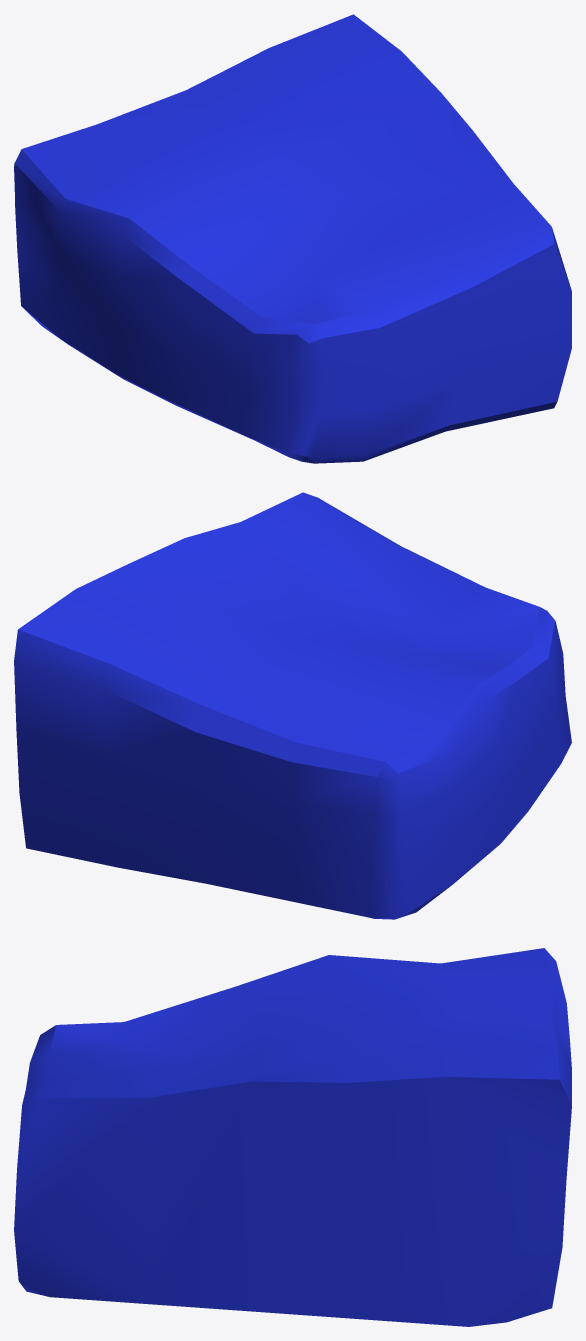
File: veal_n4.1_low.fbx
3 renders of one model, top to bottom at view 1: azimuth 30°, elevation 25°; view 2: azimuth 150°, elevation 25°; view 3: azimuth 270°, elevation 25°, orthographic. The views are drawn at different scales.
Parts seen in each view (by area): view 1: veal__n4.1_low; view 2: veal__n4.1_low; view 3: veal__n4.1_low.
Boxes of the visible parts, x1,y1,x2,y2 form: veal__n4.1_low: [14, 14, 571, 463]; veal__n4.1_low: [14, 492, 571, 919]; veal__n4.1_low: [14, 948, 571, 1326].
Size of the model in its own units: 7.43 by 4.39 by 9.02.
